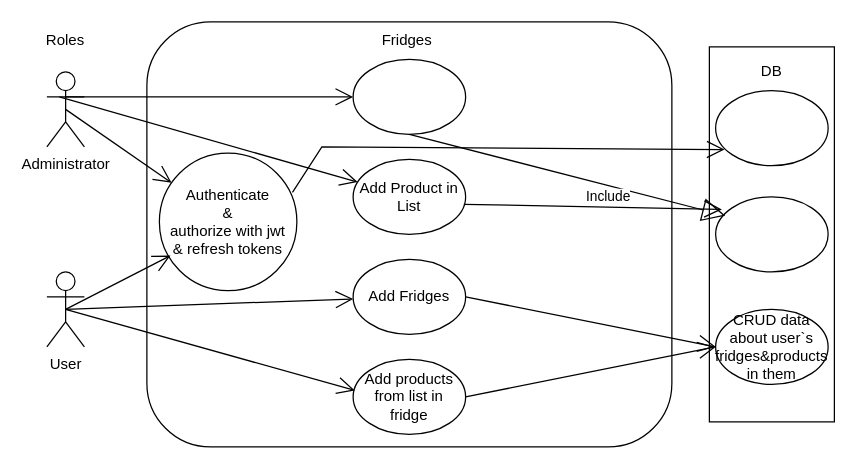
The diagram is 856 pixels wide and 469 high, and some of its shapes have lost their labels. The shapes that lost their labels are listed below. From the top down, each one's box as (x1, y1, x2, y2) in pixels, then its label:
(352, 58, 466, 134): Add Fridge Type
(714, 89, 828, 166): CRUD user`s refresh-tokens
(714, 196, 828, 272): CRUD data about fridges types/products
